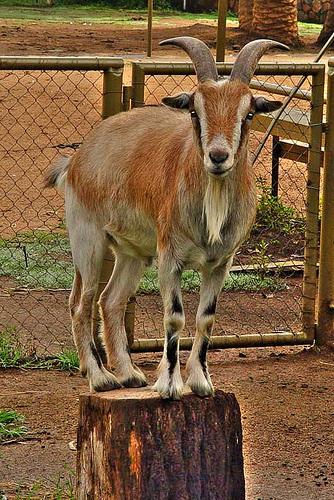goat: (42, 36, 291, 400)
